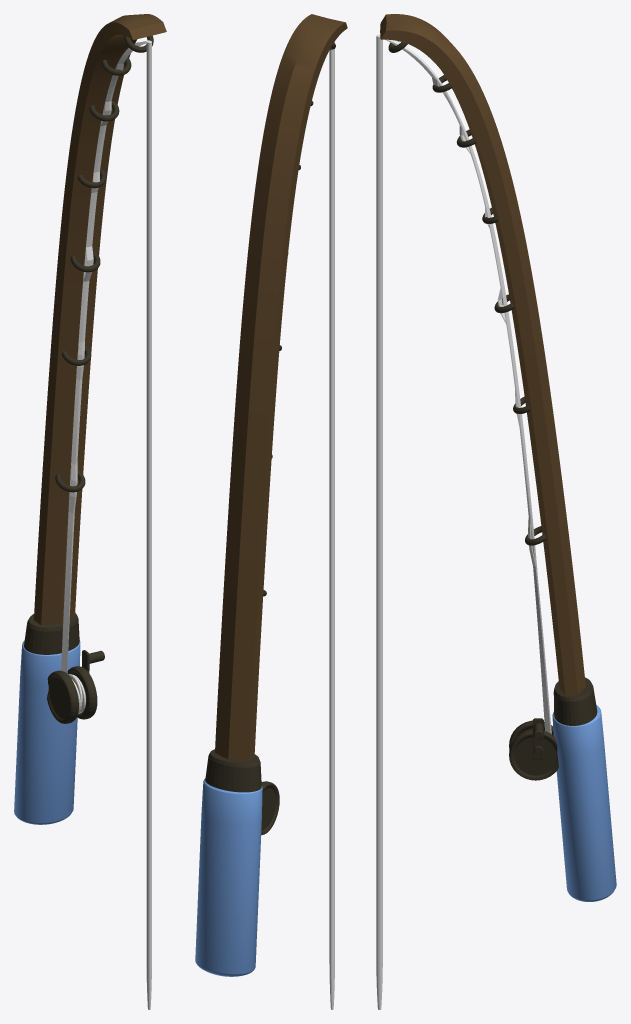
File: fishing rodds .fbx
3 views of the same model, side by side, from view 1: azimuth 30°, elevation 25°; view 2: azimuth 150°, elevation 25°; view 3: azimuth 270°, elevation 25° (orthographic).
Visible parts, largest first — view 1: rodd, Cylinder, long string, string, cylinder thing, Cylinder.001, string 2; view 2: rodd, Cylinder, long string, Cylinder.001, cylinder thing; view 3: rodd, Cylinder, long string, string, cylinder thing, Cylinder.001.
Boxes of the visible parts, left/top/right/bottom form: rodd: left=34, top=14, right=166, bottom=625; Cylinder: left=14, top=640, right=80, bottom=824; long string: left=146, top=40, right=151, bottom=1009; string: left=61, top=41, right=146, bottom=673; cylinder thing: left=47, top=666, right=97, bottom=723; Cylinder.001: left=24, top=613, right=79, bottom=654; string 2: left=68, top=63, right=123, bottom=513; rodd: left=215, top=14, right=347, bottom=761; Cylinder: left=195, top=778, right=262, bottom=976; long string: left=329, top=41, right=334, bottom=1009; Cylinder.001: left=205, top=749, right=261, bottom=792; cylinder thing: left=261, top=781, right=279, bottom=834; rodd: left=380, top=14, right=585, bottom=695; Cylinder: left=552, top=705, right=616, bottom=901; long string: left=376, top=34, right=382, bottom=1009; string: left=385, top=39, right=551, bottom=734; cylinder thing: left=509, top=720, right=558, bottom=780; Cylinder.001: left=553, top=677, right=597, bottom=725.
Size of the model in its own units: 32.48 by 509 by 112.
